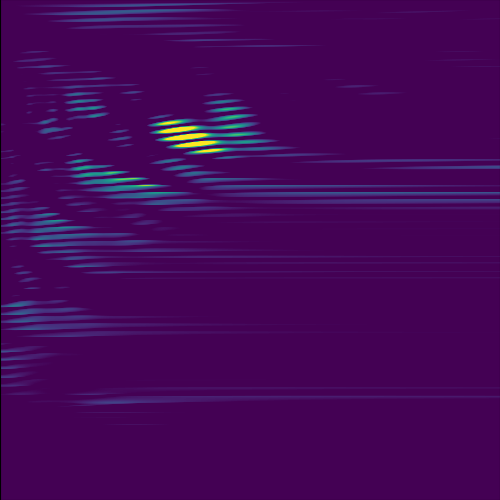semblance: (148, 110, 229, 166)
